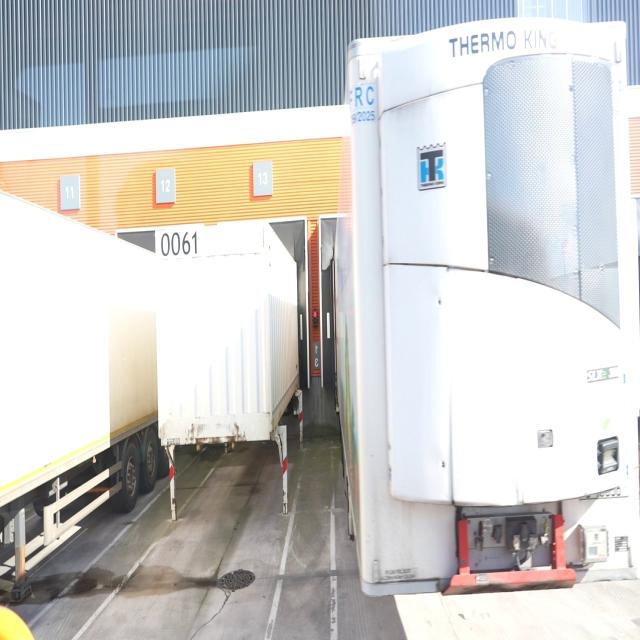Code: (160, 228, 200, 260)
